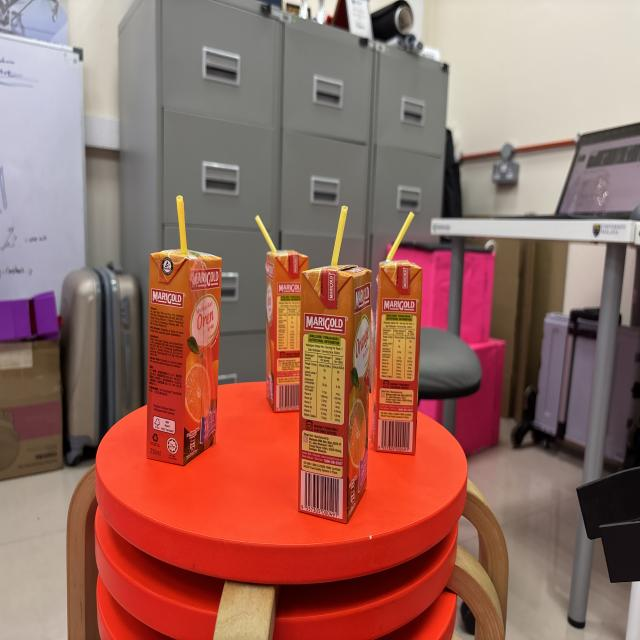drink_carton: (295, 204, 377, 534), (136, 186, 227, 474), (371, 202, 436, 469), (253, 208, 311, 420)
